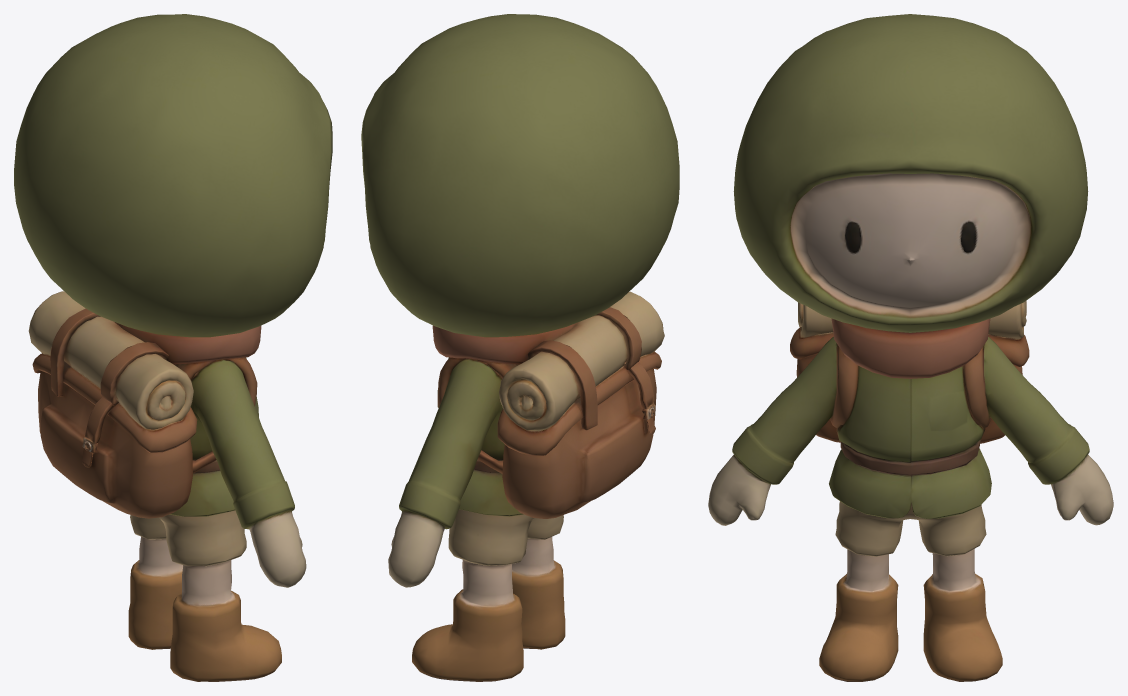
The model's file is character.glb.
3 views of the same model, side by side, from view 1: azimuth 30°, elevation 25°; view 2: azimuth 150°, elevation 25°; view 3: azimuth 270°, elevation 25° (orthographic).
Parts seen in each view (by area): view 1: tripo_node_4f8cffbb-d2fd-43a4-ac67-56dd05e360c7; view 2: tripo_node_4f8cffbb-d2fd-43a4-ac67-56dd05e360c7; view 3: tripo_node_4f8cffbb-d2fd-43a4-ac67-56dd05e360c7.
Part boxes in pixels (<box>): tripo_node_4f8cffbb-d2fd-43a4-ac67-56dd05e360c7: <box>14,14,332,681</box>; tripo_node_4f8cffbb-d2fd-43a4-ac67-56dd05e360c7: <box>361,14,679,681</box>; tripo_node_4f8cffbb-d2fd-43a4-ac67-56dd05e360c7: <box>708,14,1113,681</box>.
Size of the model in its own units: 0.08 by 0.18 by 0.1067.
Materials: 1 (1 with a texture image).
